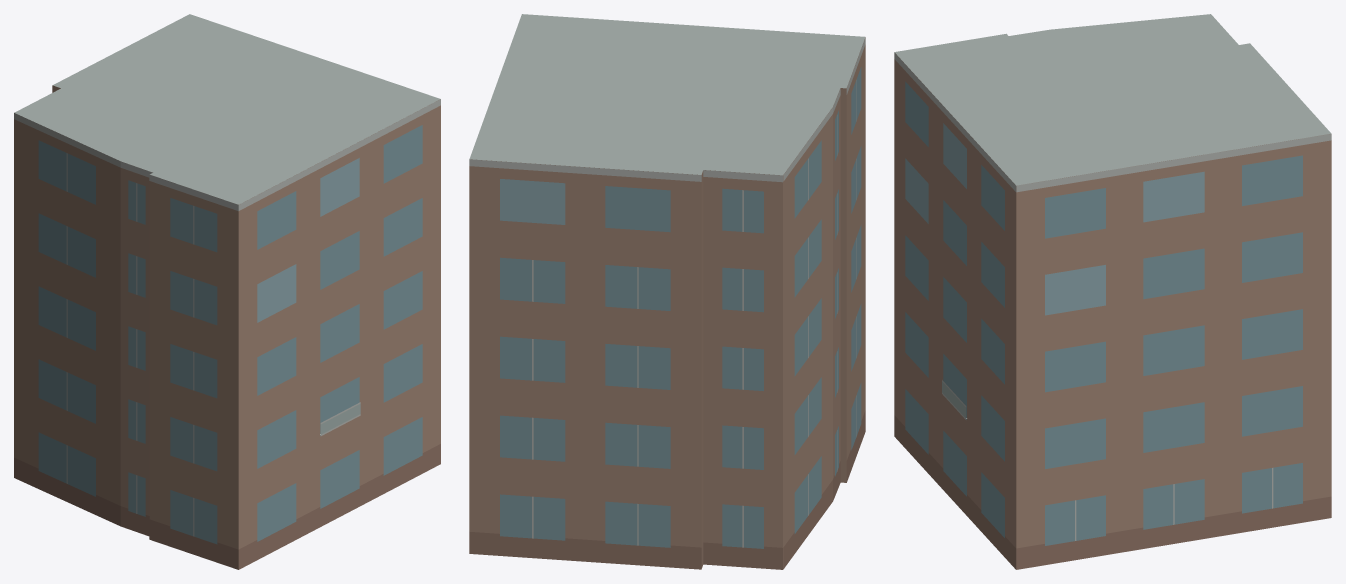
Rendered from survey-upis-32971133.glb.
3 renders of one model, left to right at view 1: azimuth 30°, elevation 25°; view 2: azimuth 150°, elevation 25°; view 3: azimuth 270°, elevation 25°, orthographic. The views are drawn at different scales.
Visible parts, largest first — view 1: survey-upis-32971133.tmp; view 2: survey-upis-32971133.tmp; view 3: survey-upis-32971133.tmp.
Boxes of the visible parts, x1,y1,x2,y2 form: survey-upis-32971133.tmp: (14,14,440,569); survey-upis-32971133.tmp: (469,14,865,569); survey-upis-32971133.tmp: (894,14,1331,569).
Bounding box in the file's own units: 13.37 × 13.95 × 14.4.
